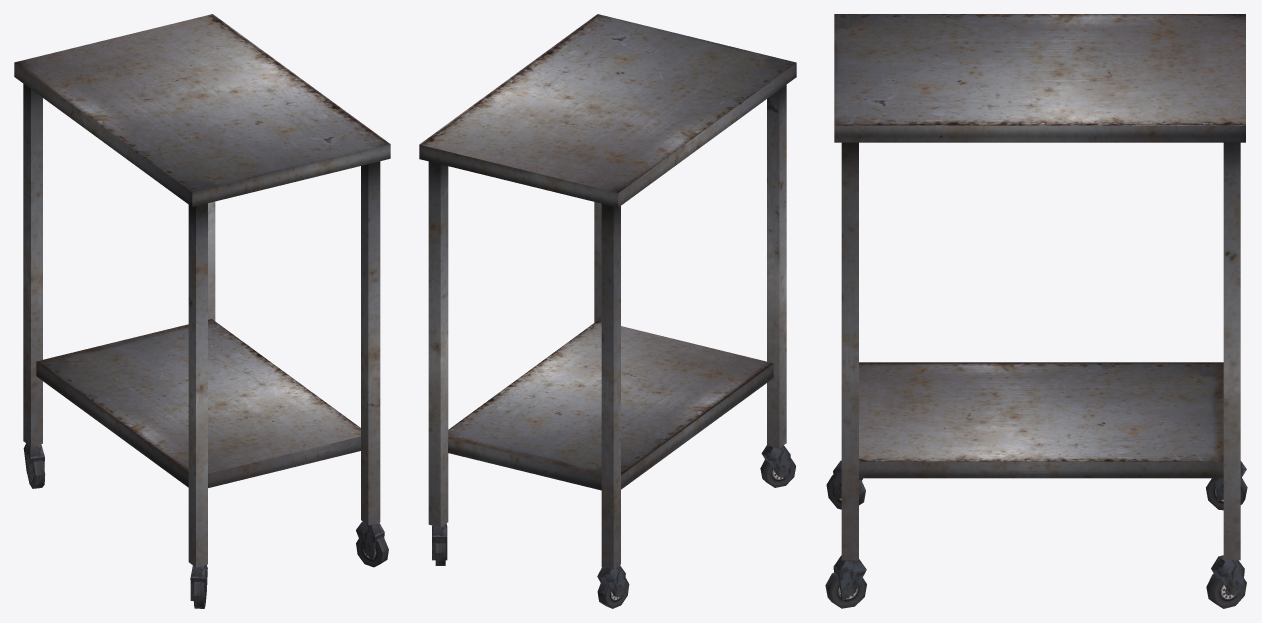
The model's file is lab_autopsy_utility_table.dae.
The picture shows the model from 3 angles, left to right: view 1: azimuth 30°, elevation 25°; view 2: azimuth 150°, elevation 25°; view 3: azimuth 270°, elevation 25°; orthographic projection. The views are drawn at different scales.
Visible parts, largest first — view 1: utilitytable; view 2: utilitytable; view 3: utilitytable.
Boxes of the visible parts, <box> form: utilitytable: <box>14,14,390,608</box>; utilitytable: <box>419,14,796,608</box>; utilitytable: <box>825,14,1247,608</box>.
Size of what is drawn, in the model's own units: 0.4939 by 1 by 0.7861.
